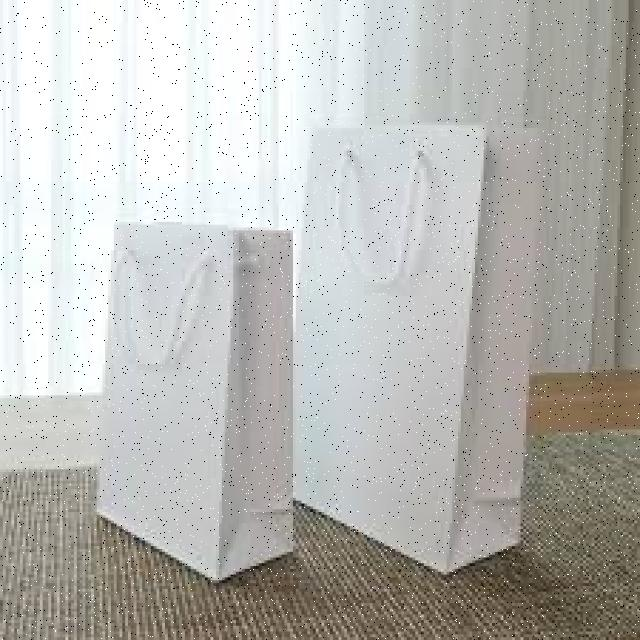paper bag: (296, 120, 544, 576), (95, 218, 294, 584)
